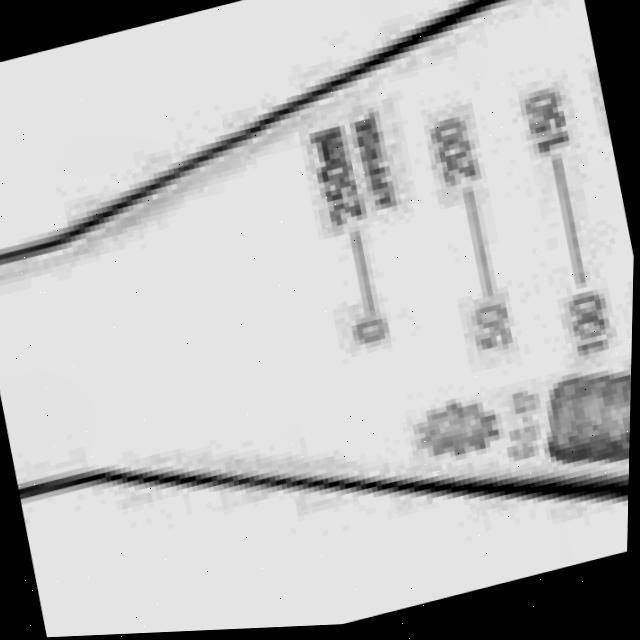glass: (0, 0, 635, 511)
